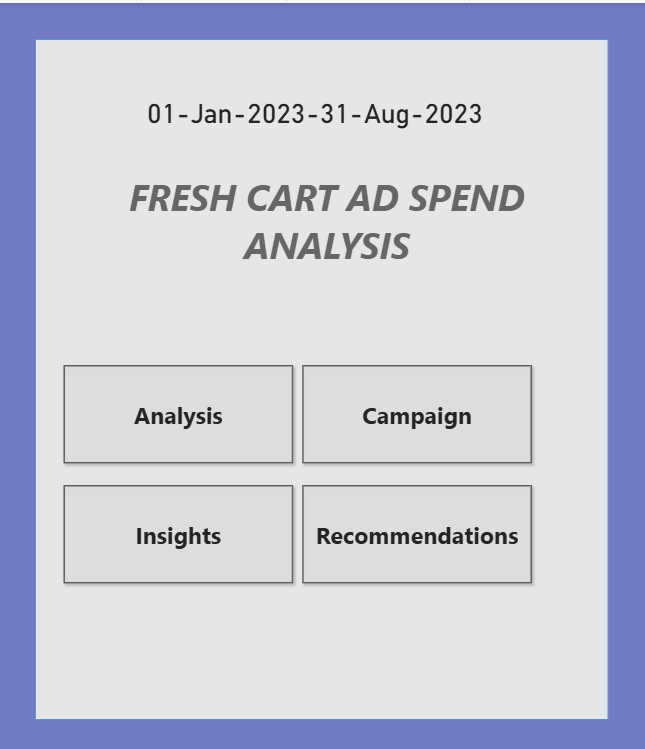

Layout of this report page (visuals, bound fields, positions):
{"tool":"powerbi","page":{"name":"HOME","canvas":[1300,1500],"ordinal":0},"visuals":[{"type":"shape","box":[72,72,1152,1368],"z":0},{"type":"shape","box":[48,312,1200,144],"z":1000},{"type":"card","fields":{"Values":["DAX Measures.Date_Range"]},"box":[144,144,984,144],"z":2000},{"type":"shape","box":[100,100,300,300],"z":3000},{"type":"textbox","box":[144,336,1032,216],"z":4000},{"type":"actionButton","box":[120,720,480,216],"z":5000},{"type":"actionButton","box":[600,720,480,216],"z":6000},{"type":"actionButton","box":[120,960,480,216],"z":7000},{"type":"actionButton","box":[600,960,480,216],"z":8000}]}

Visuals, with their boxes in screenshot pixels (x1, y1, x2, y2), scaled from the page's 1300x1500 canvas onto the 645x749 screenshot:
shape: box(36, 36, 607, 719)
shape: box(24, 156, 619, 228)
card - DAX Measures.Date_Range: box(71, 72, 560, 144)
shape: box(50, 50, 198, 200)
textbox: box(71, 168, 583, 276)
actionButton: box(60, 360, 298, 467)
actionButton: box(298, 360, 536, 467)
actionButton: box(60, 479, 298, 587)
actionButton: box(298, 479, 536, 587)
